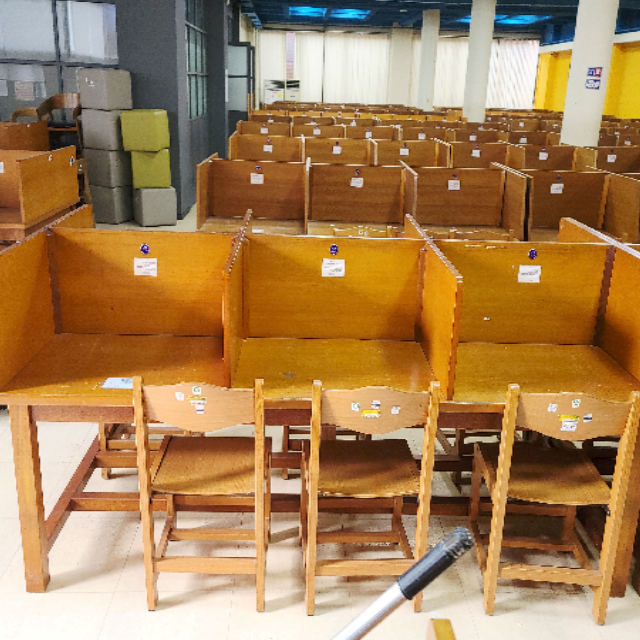empty: (1, 194, 227, 493), (234, 207, 448, 490), (453, 219, 640, 499)
